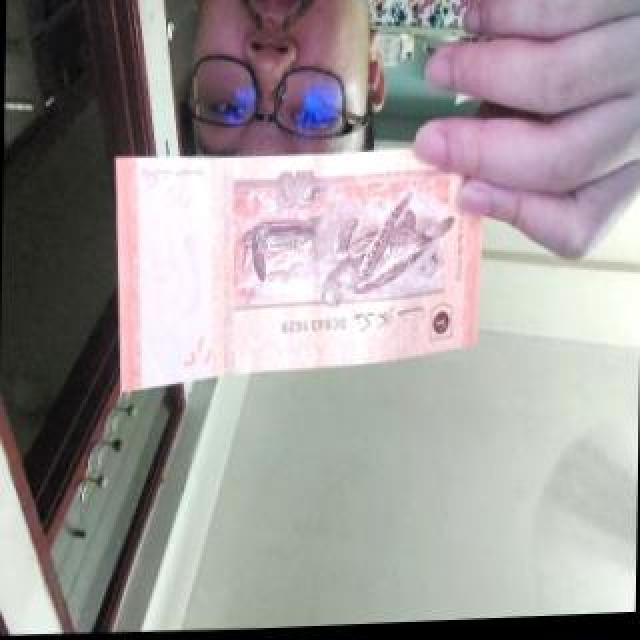20 Ringgit: (108, 128, 488, 399)
